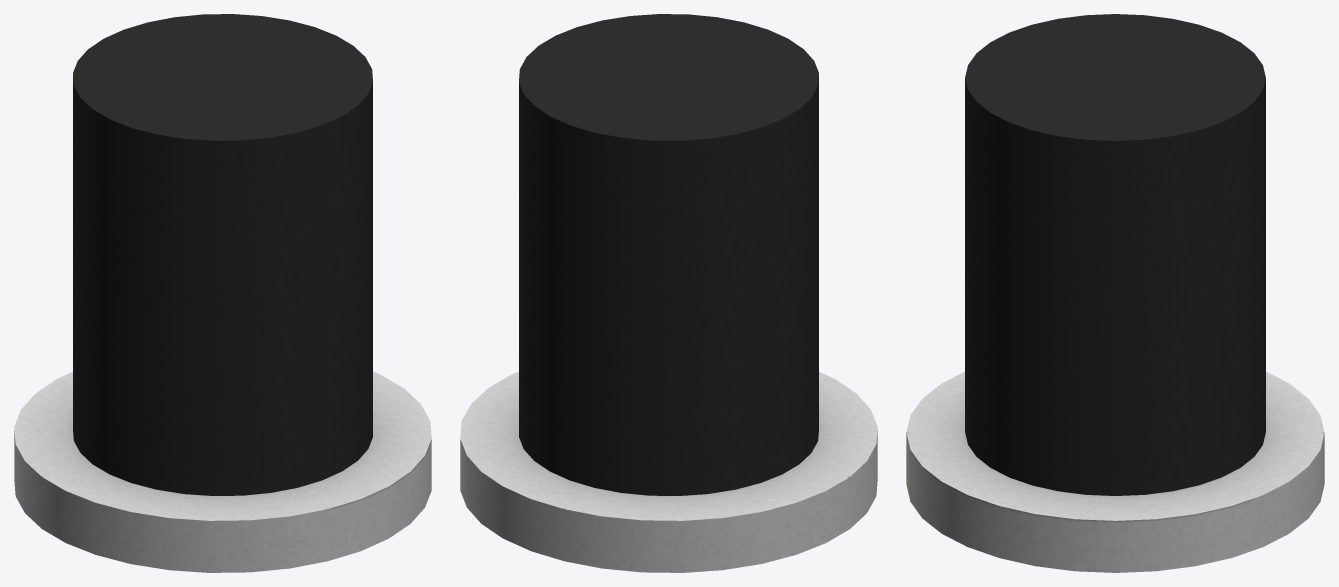
File: Plug-Receptacle.dae
3 renders of one model, left to right at view 1: azimuth 30°, elevation 25°; view 2: azimuth 150°, elevation 25°; view 3: azimuth 270°, elevation 25°, orthographic.
Parts seen in each view (by area): view 1: Plug-Receptacle; view 2: Plug-Receptacle; view 3: Plug-Receptacle.
Part boxes in pixels (left/top/right/bottom): Plug-Receptacle: left=14, top=14, right=431, bottom=572; Plug-Receptacle: left=460, top=14, right=877, bottom=572; Plug-Receptacle: left=906, top=14, right=1324, bottom=572.
Size of the model in its own units: 0.2575 by 0.2575 by 0.2766.
1 material, 1 textured.
